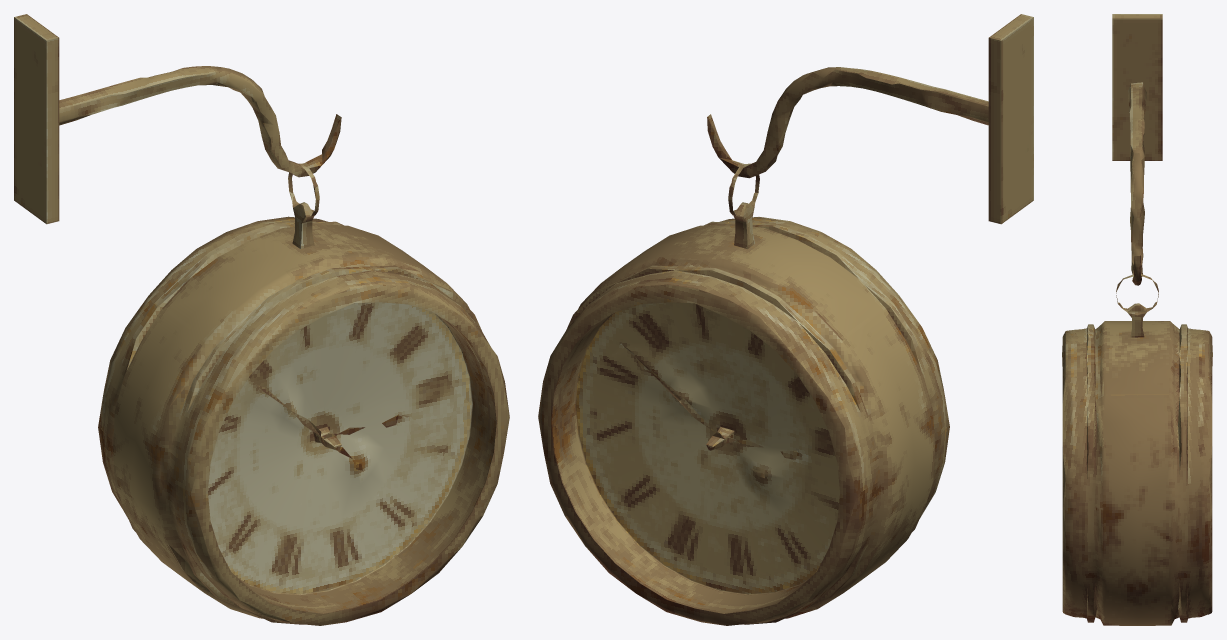
File: park_clock.glb
3 renders of one model, left to right at view 1: azimuth 30°, elevation 25°; view 2: azimuth 150°, elevation 25°; view 3: azimuth 270°, elevation 25°, orthographic. The views are drawn at different scales.
Parts seen in each view (by area): view 1: mesh; view 2: mesh; view 3: mesh.
Boxes of the visible parts, x1,y1,x2,y2 form: mesh: [14, 14, 509, 625]; mesh: [538, 14, 1033, 625]; mesh: [1062, 14, 1212, 625].
Bounding box in the file's own units: 2.68 × 3.68 × 1.02.
1 material, 1 textured.
